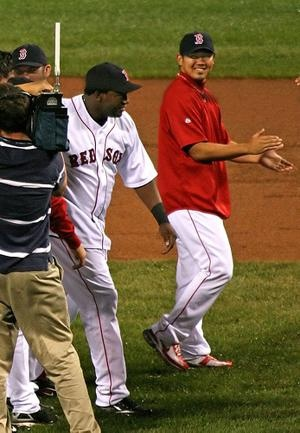person without safety: (150, 26, 239, 371), (60, 56, 149, 306)
